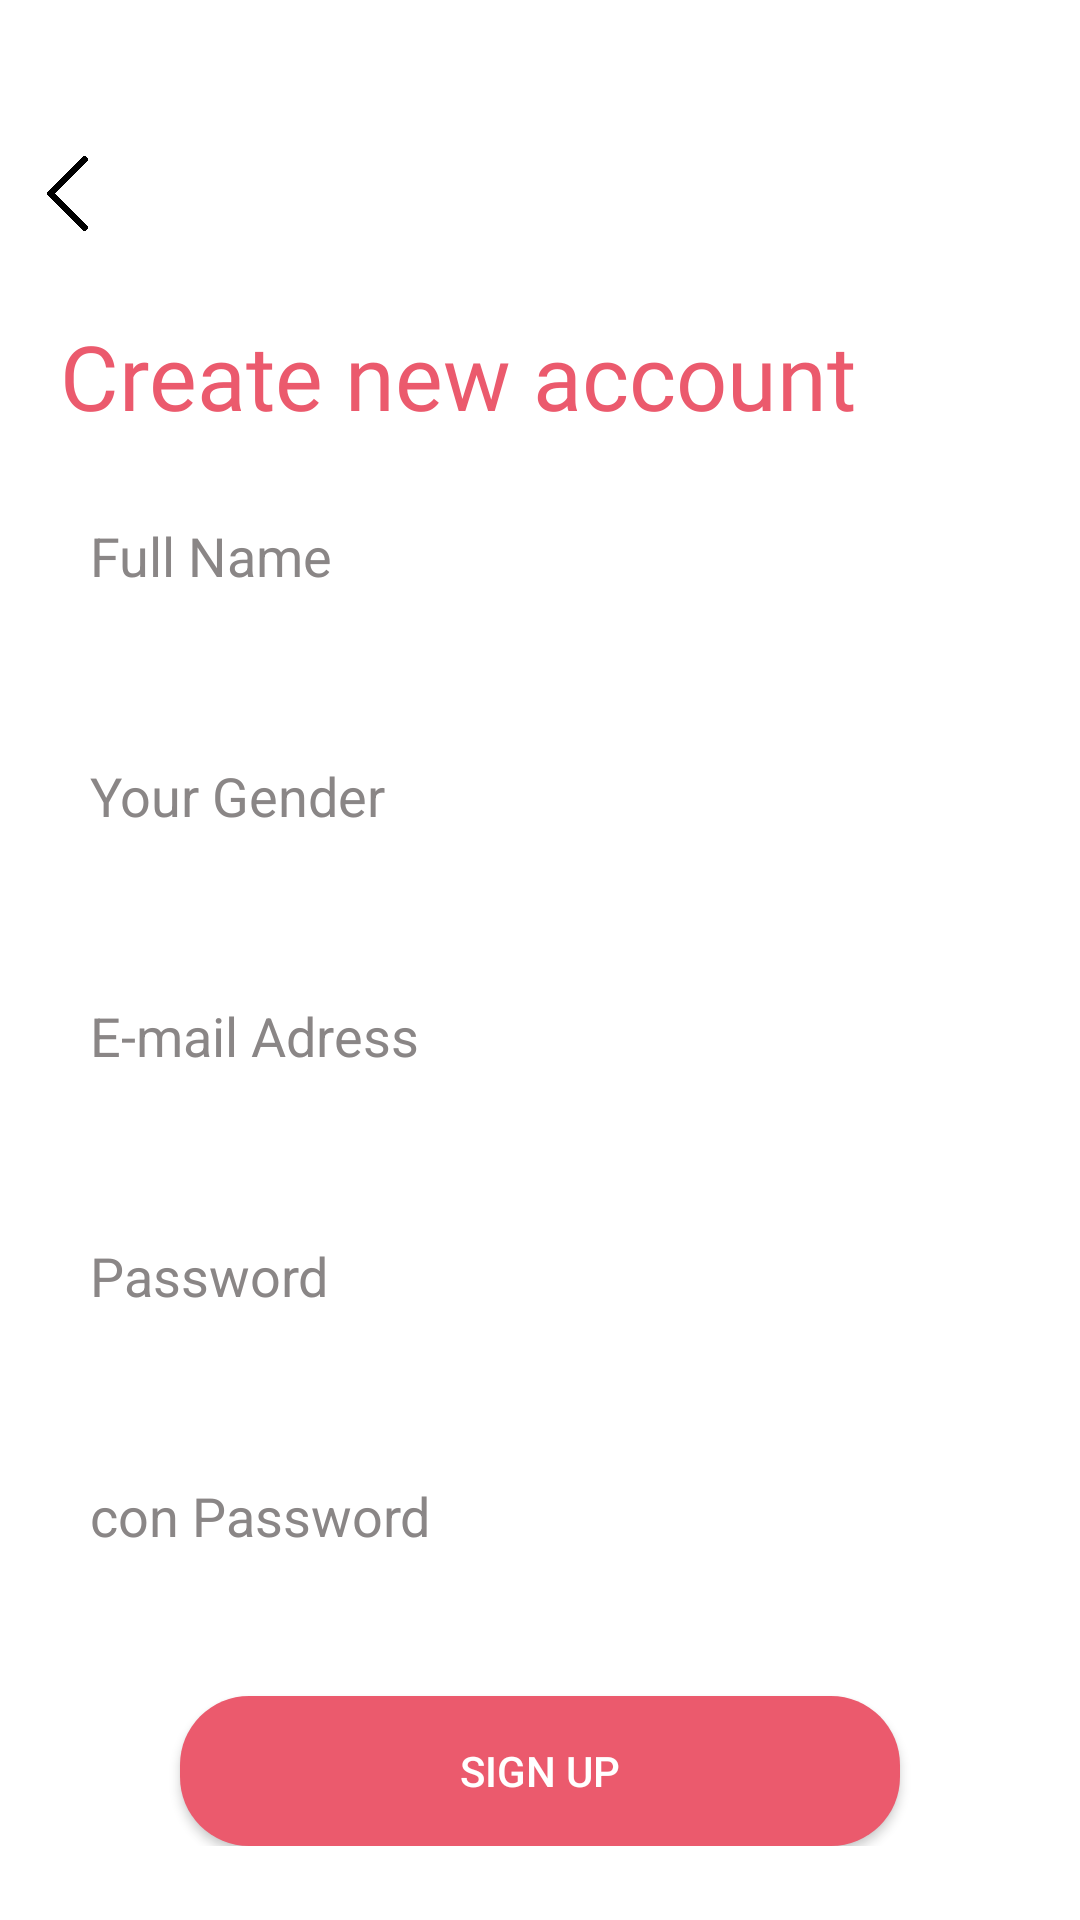

Point at icon controls on the screen. Image size 1080 x 1920, points as (x=x, y=y).
back arrow: (x=67, y=193)
